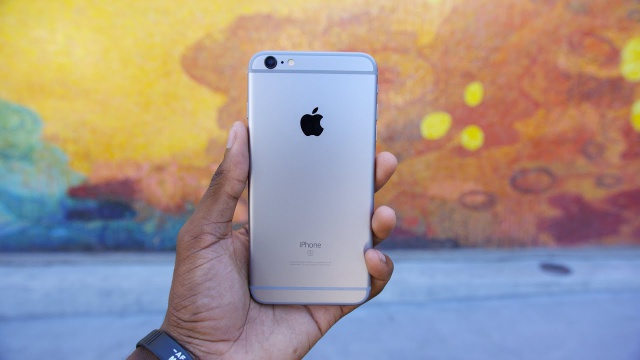apple: (287, 95, 335, 144)
